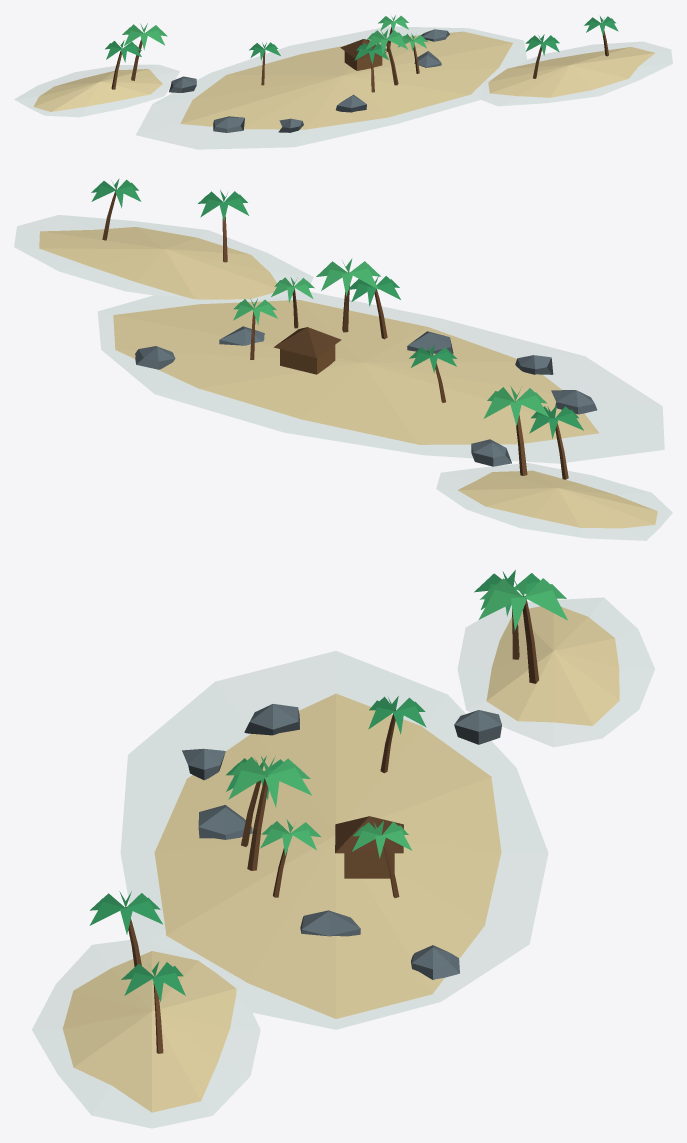
The model's file is W2_Mid_Islet_B.fbx.
The picture shows the model from 3 angles, top to bottom: view 1: azimuth 30°, elevation 25°; view 2: azimuth 150°, elevation 25°; view 3: azimuth 270°, elevation 25°; orthographic projection. The views are drawn at different scales.
Parts seen in each view (by area): view 1: W2_Mid_Islet_B; view 2: W2_Mid_Islet_B; view 3: W2_Mid_Islet_B.
Boxes of the visible parts, x1,y1,x2,y2 form: W2_Mid_Islet_B: (14,15,672,149); W2_Mid_Islet_B: (14,178,672,540); W2_Mid_Islet_B: (32,569,654,1128).
Size of the model in its own units: 150 by 15.52 by 74.52.
